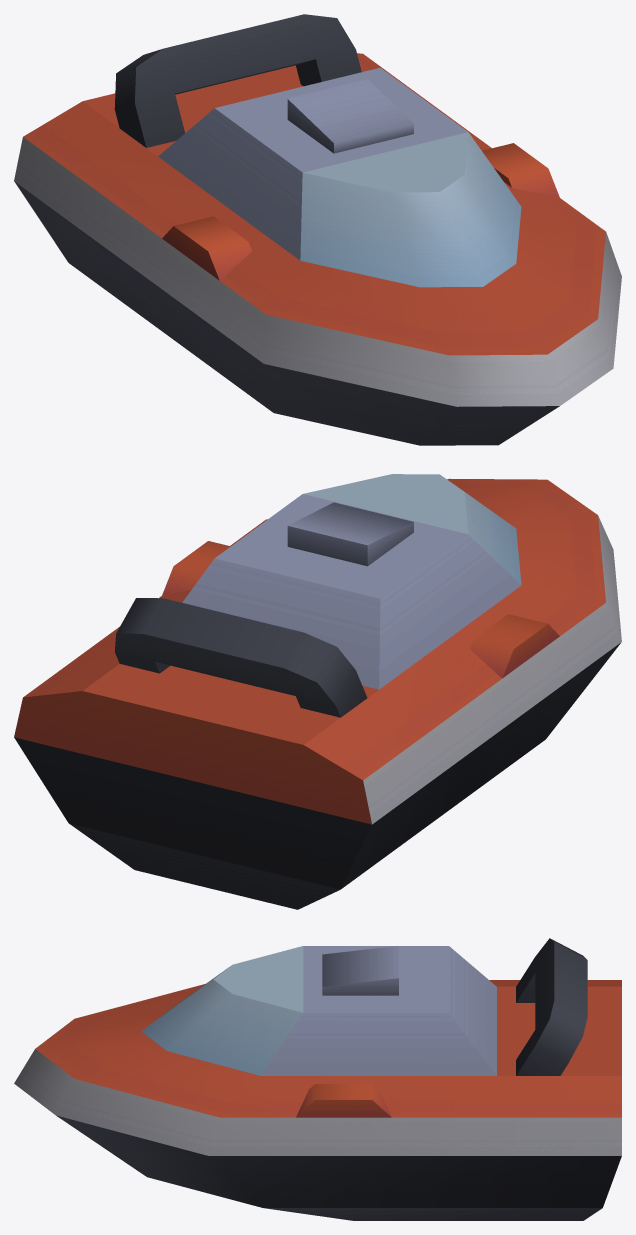
The model's file is boat_speed_c.glb.
3 views of the same model, one above another, from view 1: azimuth 30°, elevation 25°; view 2: azimuth 150°, elevation 25°; view 3: azimuth 270°, elevation 25° (orthographic). The views are drawn at different scales.
Visible parts, largest first — view 1: boat-speed-c; view 2: boat-speed-c; view 3: boat-speed-c.
Boxes of the visible parts, bbox=[...] form: boat-speed-c: bbox=[14, 14, 621, 445]; boat-speed-c: bbox=[14, 474, 621, 909]; boat-speed-c: bbox=[14, 938, 621, 1220].
Bounding box in the file's own units: 1.78 × 1.3 × 3.17.
Materials: 1 (1 with a texture image).
